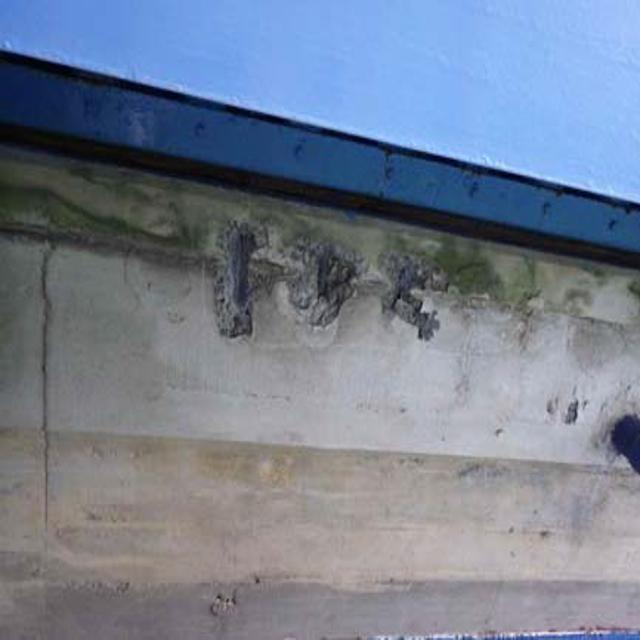spalling: (194, 206, 459, 366)
